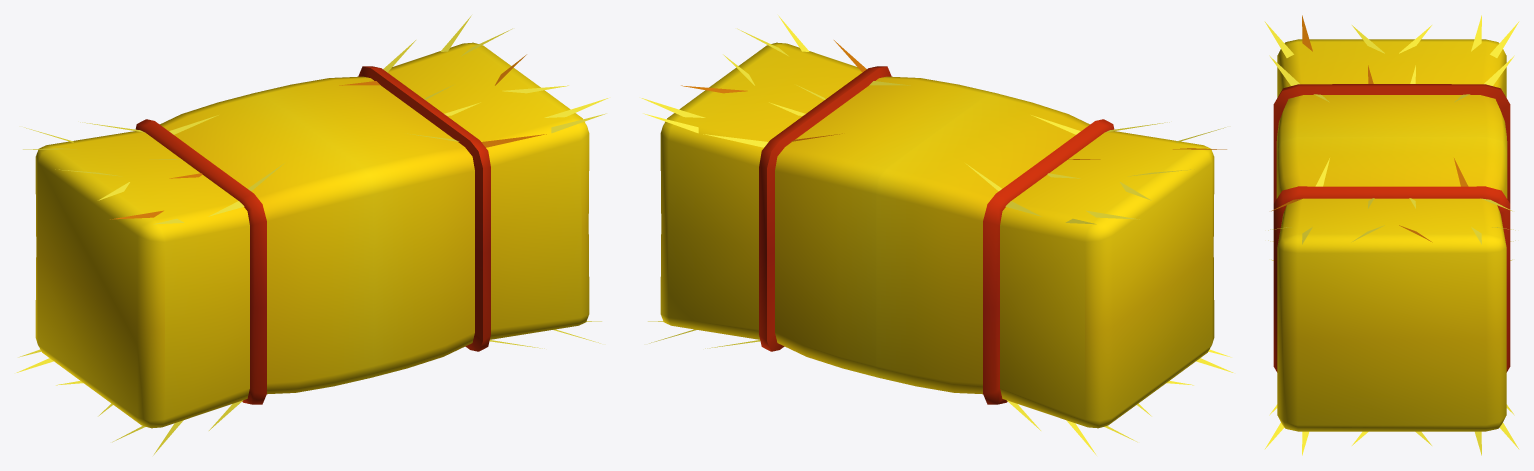
File: Hay.fbx
3 views of the same model, side by side, from view 1: azimuth 30°, elevation 25°; view 2: azimuth 150°, elevation 25°; view 3: azimuth 270°, elevation 25° (orthographic). The views are drawn at different scales.
Parts seen in each view (by area): view 1: Hay; view 2: Hay; view 3: Hay.
Boxes of the visible parts, x1=… form: Hay: x1=16, y1=15, x2=608, y2=455; Hay: x1=641, y1=15, x2=1233, y2=455; Hay: x1=1264, y1=15, x2=1519, y2=455.
Bounding box in the file's own units: 1.39 × 0.6166 × 0.6508.
